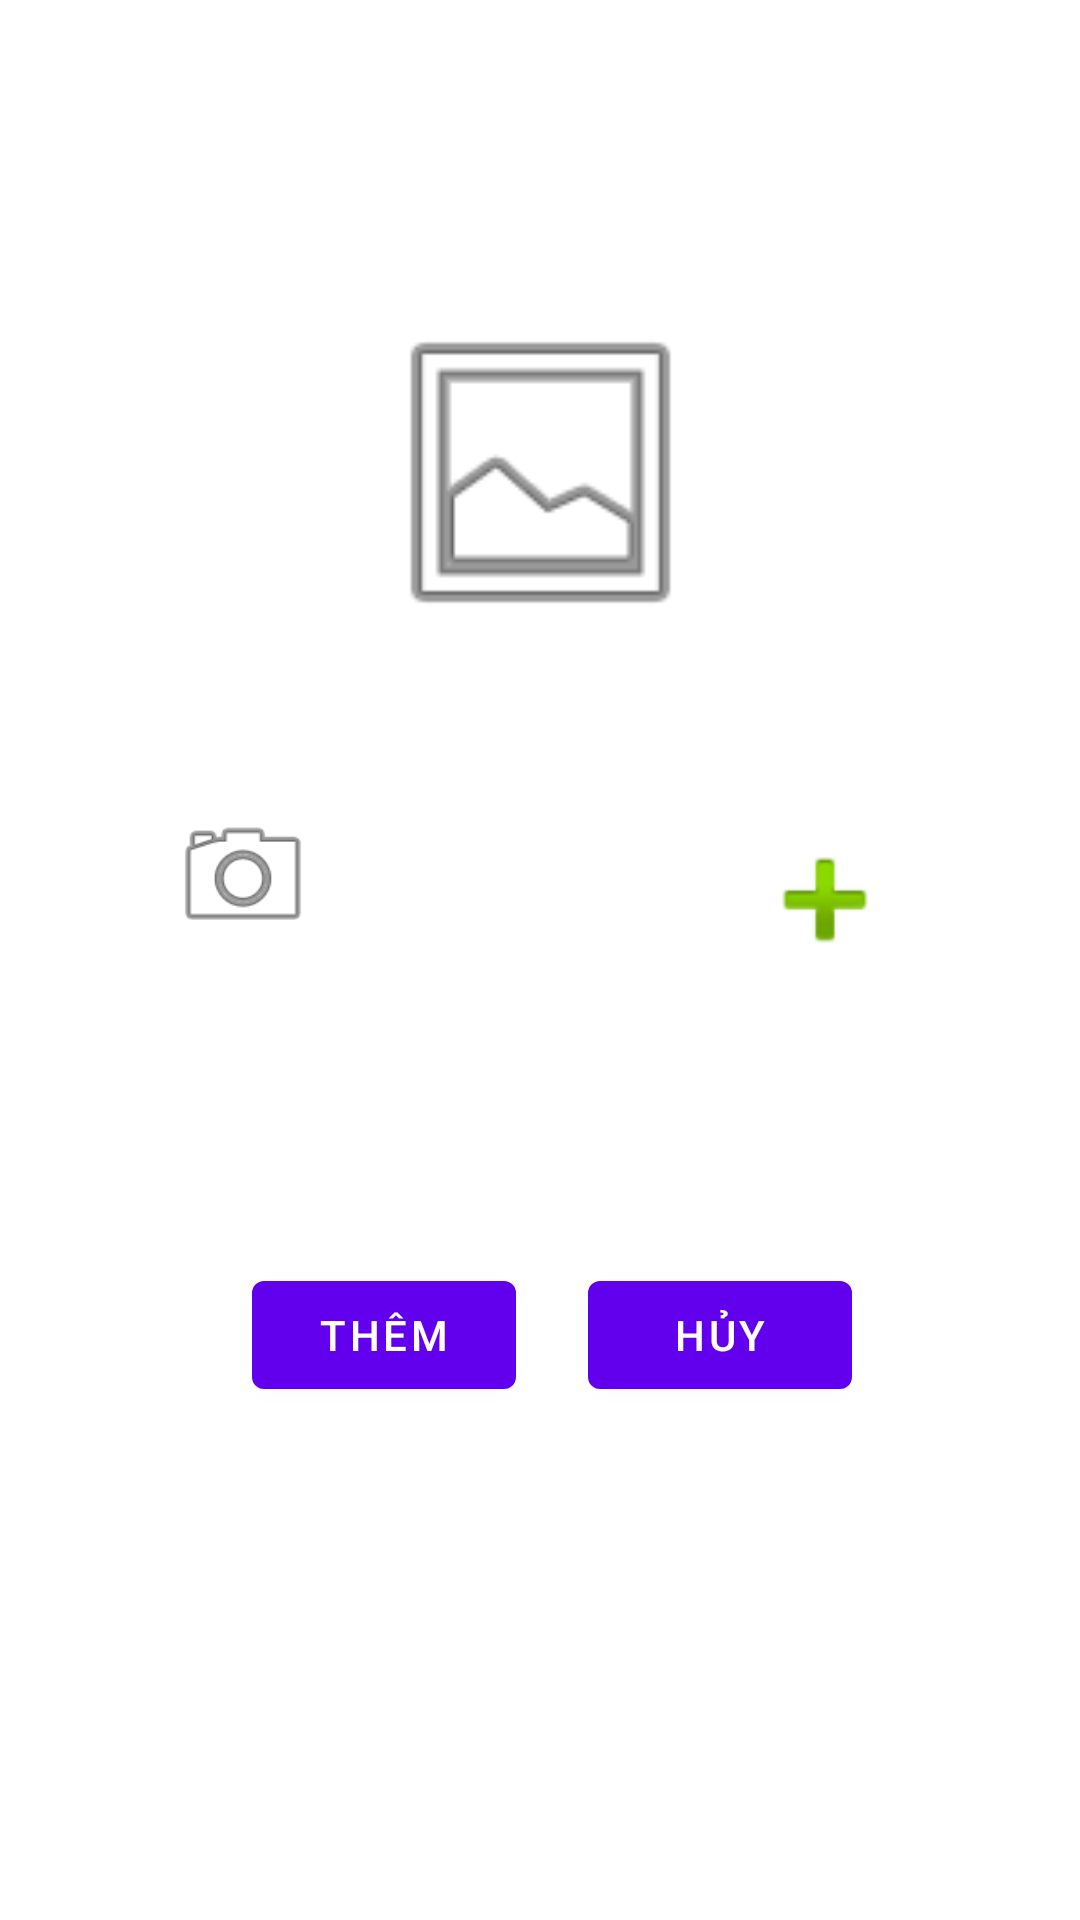

Icon bounding boxes for this 1080x1920 phone screenshot, format (x1, y1, x2, y2):
add: (782, 857, 868, 943)
camera: (185, 827, 301, 920)
gallery: (410, 342, 671, 603)
